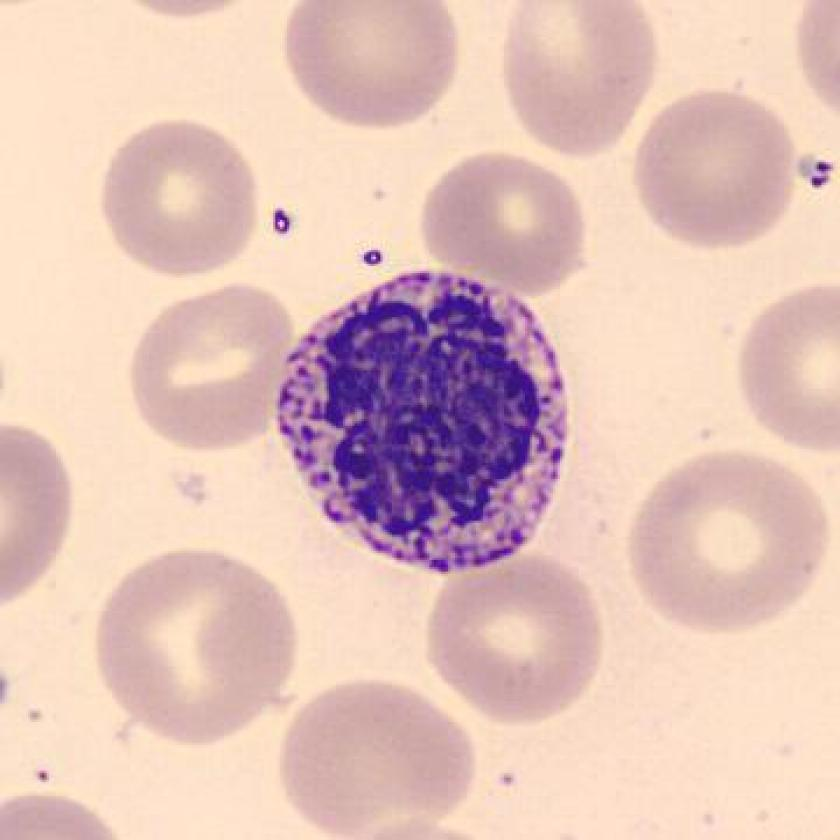basophil: (267, 253, 589, 577)
